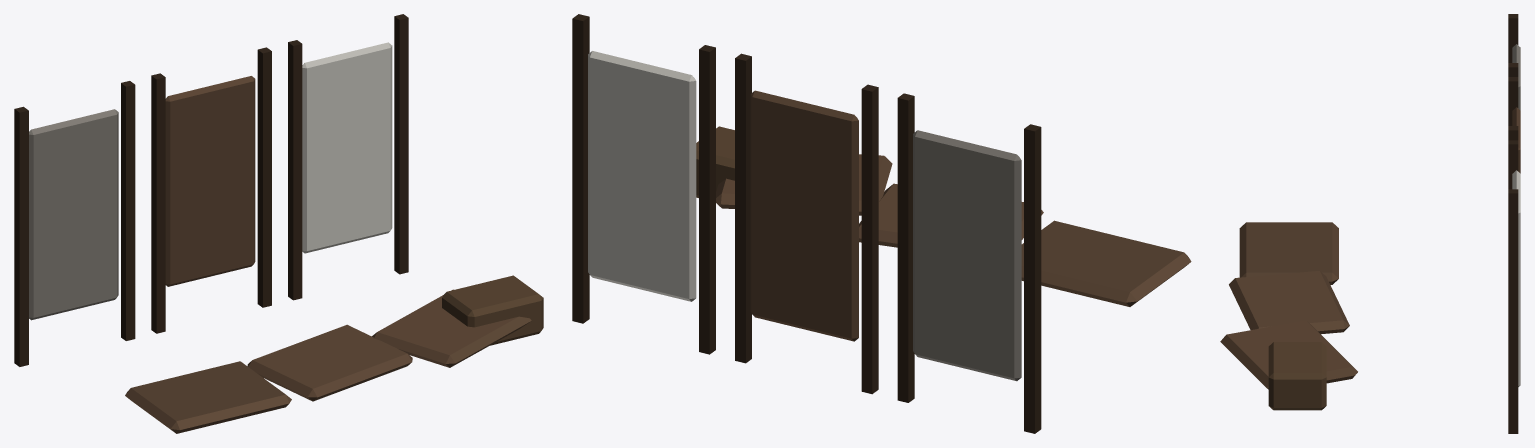
The model's file is village_goods_pelts.glb.
3 renders of one model, left to right at view 1: azimuth 30°, elevation 25°; view 2: azimuth 150°, elevation 25°; view 3: azimuth 270°, elevation 25°, orthographic. The views are drawn at different scales.
Parts seen in each view (by area): view 1: village_goods_pelts; view 2: village_goods_pelts; view 3: village_goods_pelts.
Part boxes in pixels (x1,y1,x2,y2): village_goods_pelts: (14,14,543,433); village_goods_pelts: (572,14,1191,433); village_goods_pelts: (1220,14,1520,433).
Size of the model in its own units: 2.63 by 1.6 by 1.81.
